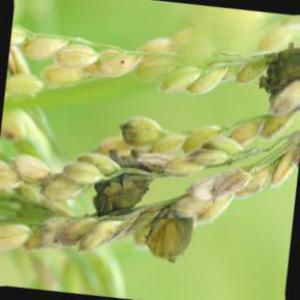False Smut: (146, 211, 194, 267), (96, 166, 149, 215), (262, 45, 296, 97)
